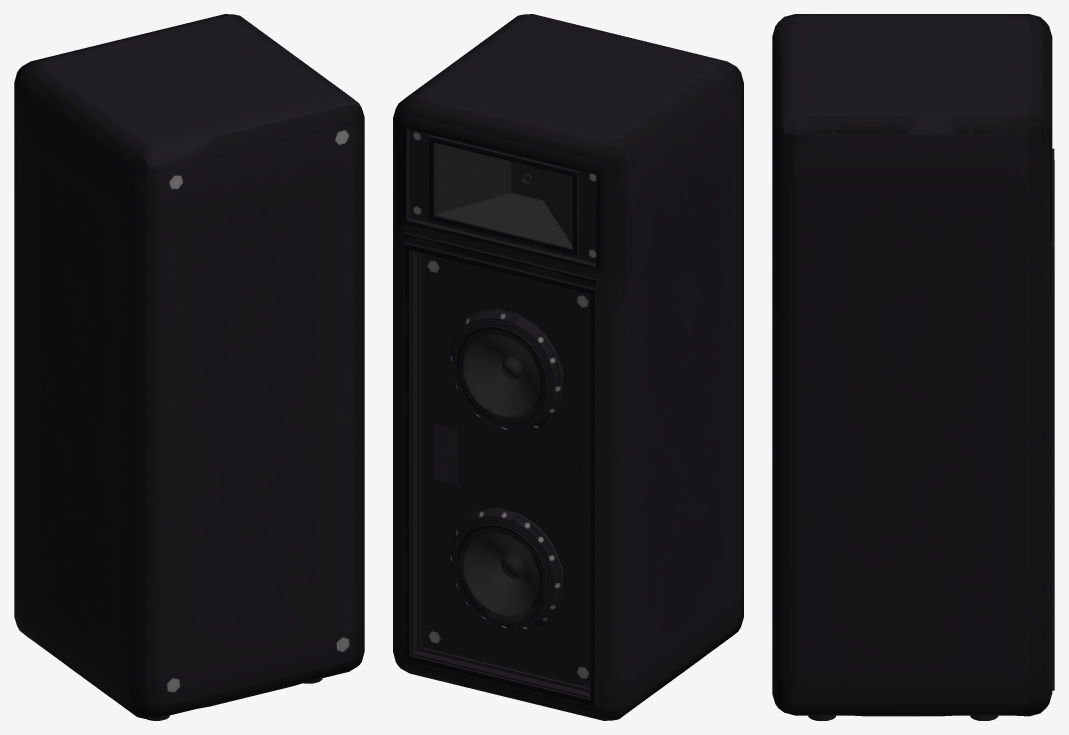
3 renders of one model, left to right at view 1: azimuth 30°, elevation 25°; view 2: azimuth 150°, elevation 25°; view 3: azimuth 270°, elevation 25°, orthographic. The views are drawn at different scales.
Parts seen in each view (by area): view 1: small; view 2: small; view 3: small.
Part boxes in pixels (<box>): small: <box>14,14,364,720</box>; small: <box>393,14,743,720</box>; small: <box>772,14,1054,720</box>.
Bounding box in the file's own units: 108 × 259 × 109.
1 material, 1 textured.
